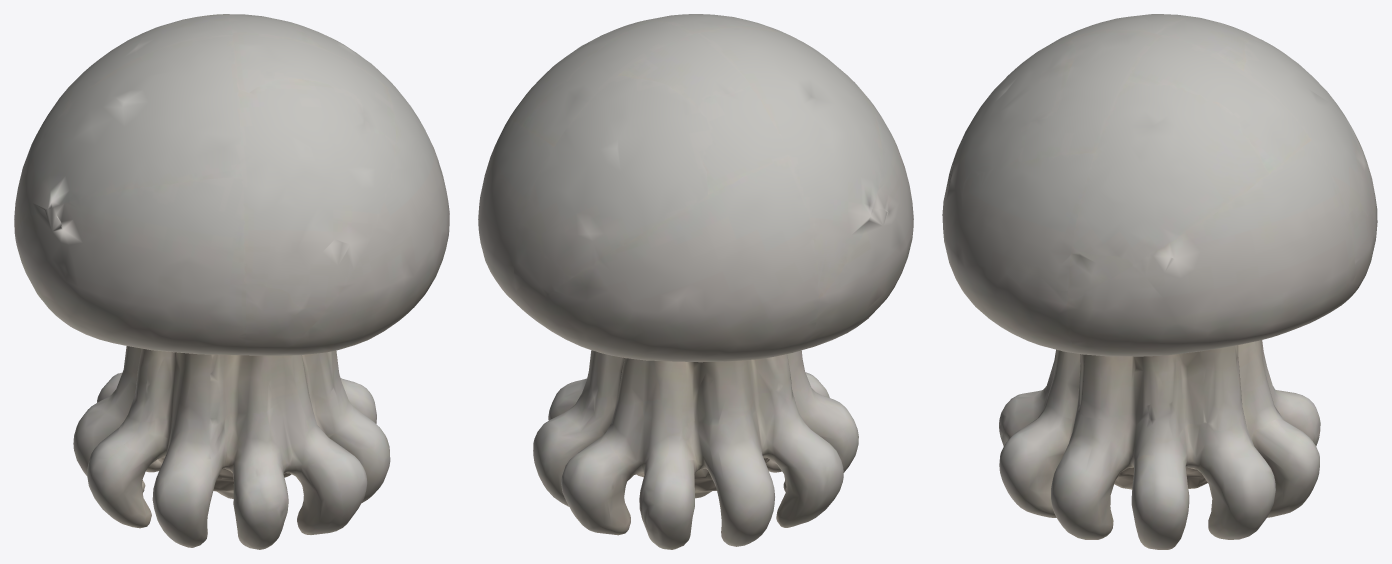
The model's file is p-medusa.glb.
3 renders of one model, left to right at view 1: azimuth 30°, elevation 25°; view 2: azimuth 150°, elevation 25°; view 3: azimuth 270°, elevation 25°, orthographic.
Visible parts, largest first — view 1: tripo_node_a88e70b8-e85d-4875-a0b3-3767faf88beb; view 2: tripo_node_a88e70b8-e85d-4875-a0b3-3767faf88beb; view 3: tripo_node_a88e70b8-e85d-4875-a0b3-3767faf88beb.
Part boxes in pixels (x1,y1,x2,y2): tripo_node_a88e70b8-e85d-4875-a0b3-3767faf88beb: (14, 14, 449, 549); tripo_node_a88e70b8-e85d-4875-a0b3-3767faf88beb: (478, 14, 913, 549); tripo_node_a88e70b8-e85d-4875-a0b3-3767faf88beb: (942, 14, 1377, 549).
Bounding box in the file's own units: 0.8385 × 0.9998 × 0.8384.
1 material, 1 textured.
